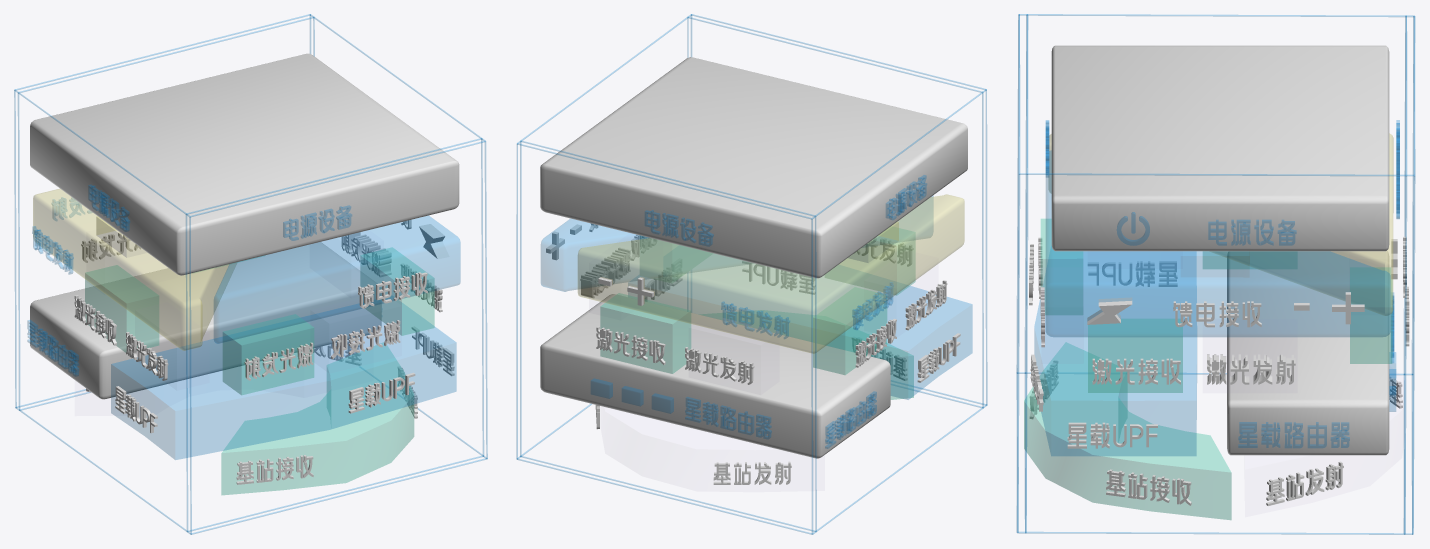
The model's file is satelliteDetails.glb.
The picture shows the model from 3 angles, left to right: view 1: azimuth 30°, elevation 25°; view 2: azimuth 150°, elevation 25°; view 3: azimuth 270°, elevation 25°; orthographic projection. The views are drawn at different scales.
Parts seen in each view (by area): view 1: 路由器 (×2), upf, 馈电接收, 基站信号接收模块, 馈电发射, 收, 卫星, 电; view 2: 路由器 (×2), 馈电发射, 收, upf, 馈电接收, 卫星, 基站信号接收模块, 路由器.3; view 3: 路由器 (×2), 馈电接收, upf, 基站信号接收模块, 收, 卫星, 馈电发射, 电, 激, 星, 发, 电源 (+1 smaller).
Boxes of the visible parts, <box> form: 路由器 (×2): <box>30,53,459,399</box>; upf: <box>111,300,456,459</box>; 馈电接收: <box>214,216,460,343</box>; 基站信号接收模块: <box>221,342,413,494</box>; 馈电发射: <box>33,189,236,350</box>; 收: <box>85,247,434,394</box>; 卫星: <box>14,14,487,534</box>; 电: <box>419,224,449,259</box>; 路由器 (×2): <box>540,57,967,458</box>; 馈电发射: <box>578,194,964,353</box>; 收: <box>600,228,915,374</box>; upf: <box>628,264,972,399</box>; 馈电接收: <box>541,195,933,291</box>; 卫星: <box>516,14,987,534</box>; 基站信号接收模块: <box>703,310,913,399</box>; 路由器.3: <box>591,378,673,413</box>; 路由器 (×2): <box>1051,45,1389,455</box>; 馈电接收: <box>1046,151,1390,336</box>; upf: <box>1034,252,1196,455</box>; 基站信号接收模块: <box>1024,342,1231,519</box>; 收: <box>1041,219,1392,392</box>; 卫星: <box>1016,14,1415,534</box>; 馈电发射: <box>1048,133,1393,315</box>; 电: <box>1087,297,1132,324</box>; 激: <box>1207,354,1226,384</box>; 星: <box>1067,422,1086,448</box>; 发: <box>1253,354,1272,384</box>; 电源: <box>1117,212,1149,245</box>.
Size of what is drawn, in the model's own units: 213 by 212 by 210.
